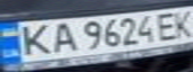2: (118, 15, 142, 47)
4: (136, 12, 160, 45)
6: (100, 16, 124, 48)
9: (78, 18, 106, 51)
A: (45, 20, 81, 54)
E: (151, 9, 184, 42)
K: (9, 21, 57, 57), (169, 7, 193, 39)
